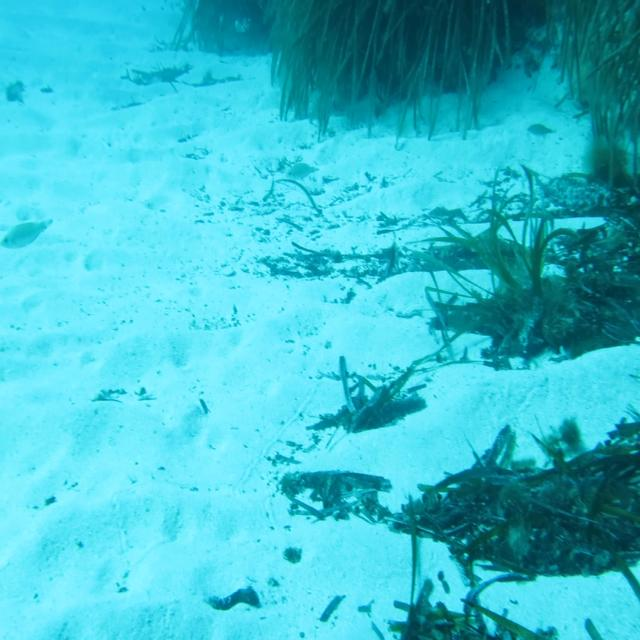BN: (0, 215, 50, 255)
female: (282, 158, 320, 186)
vegetation: (290, 0, 479, 84), (475, 220, 640, 306), (397, 478, 558, 548), (571, 0, 640, 117), (535, 452, 640, 526), (386, 595, 534, 640), (291, 470, 374, 509), (343, 389, 394, 425), (207, 582, 259, 614), (318, 593, 345, 626), (281, 543, 304, 566)
